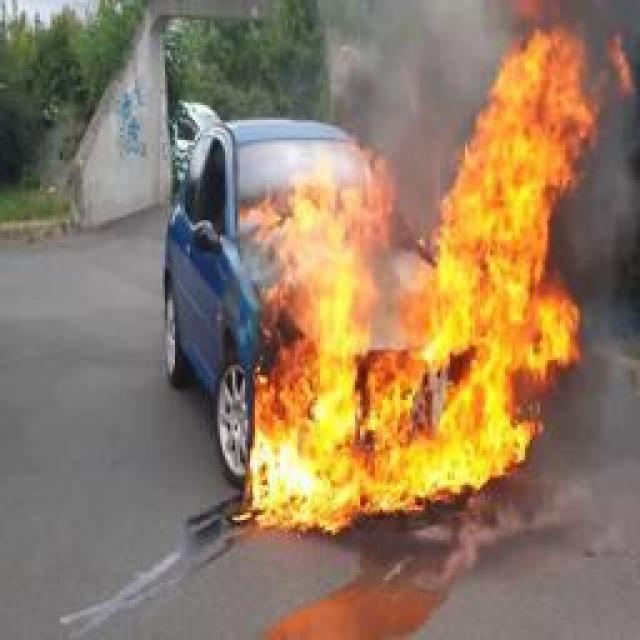Fire: (242, 0, 596, 535)
